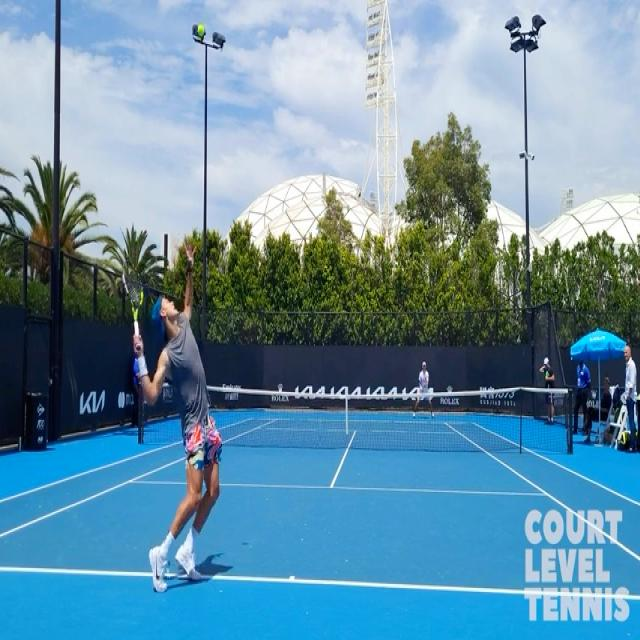serve_hit: (117, 199, 239, 605)
